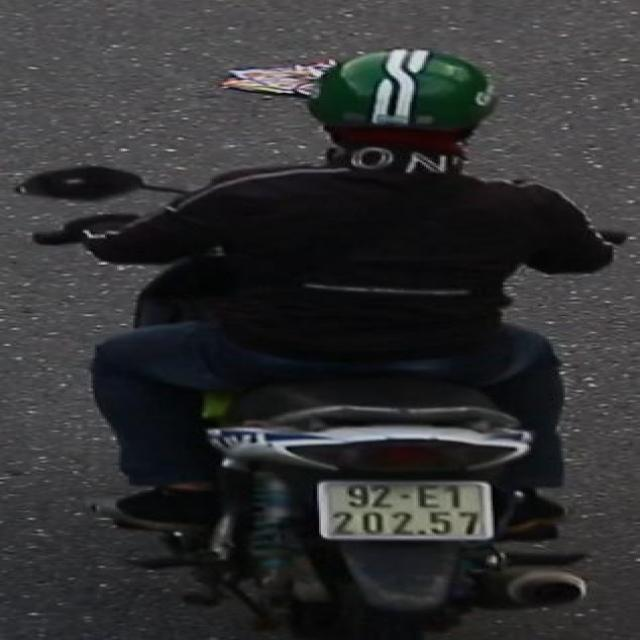LP: (310, 472, 502, 546)
helmet: (296, 41, 510, 174)
